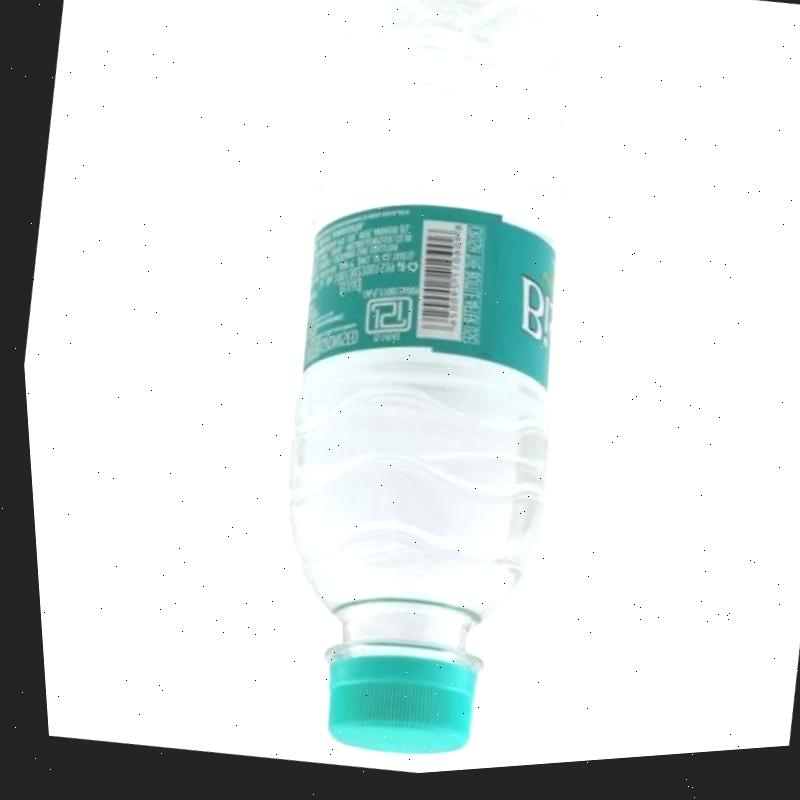botella: (196, 0, 639, 789)
